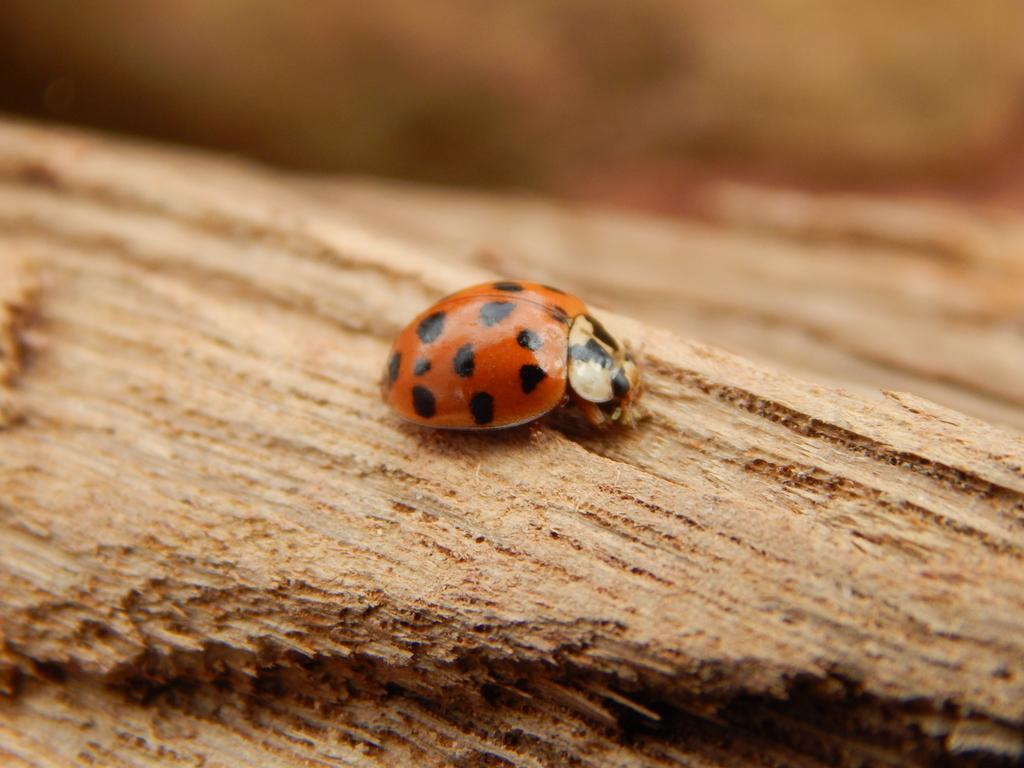ladybug: (377, 279, 651, 435)
